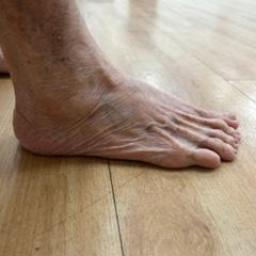Lateral View -Right Foot-: (2, 26, 251, 188)
